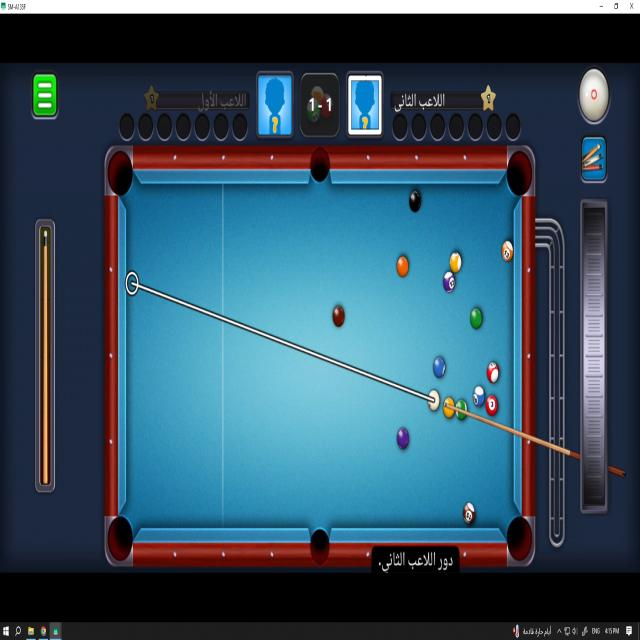object_ball: (442, 394, 457, 420), (455, 396, 469, 421), (397, 427, 409, 449), (443, 271, 455, 293), (473, 386, 485, 407), (333, 306, 344, 327), (397, 256, 408, 277), (433, 357, 444, 378), (471, 308, 482, 329), (502, 241, 513, 261), (450, 253, 461, 273), (487, 362, 498, 382), (486, 395, 497, 415), (410, 191, 420, 212), (464, 503, 474, 524)
white_cue_ball: (427, 388, 442, 412)
